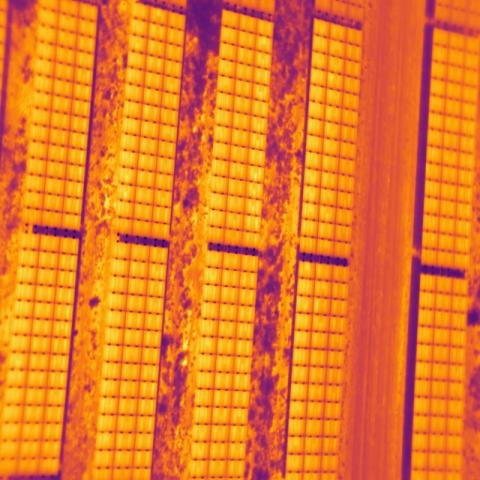fault: (116, 167, 138, 202)
